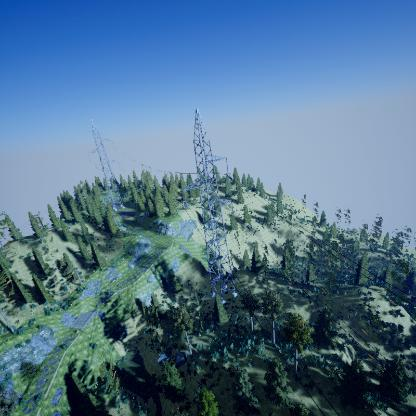tower: (181, 105, 238, 308), (87, 117, 126, 212)
